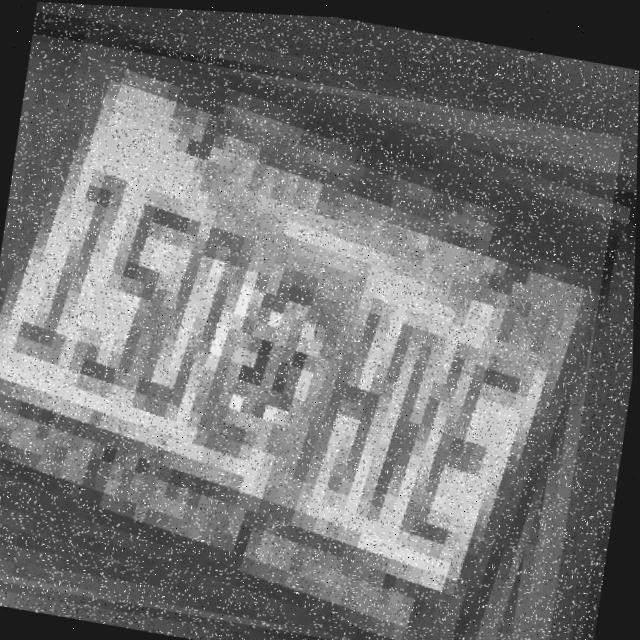LicensePlate: (0, 31, 623, 640)
